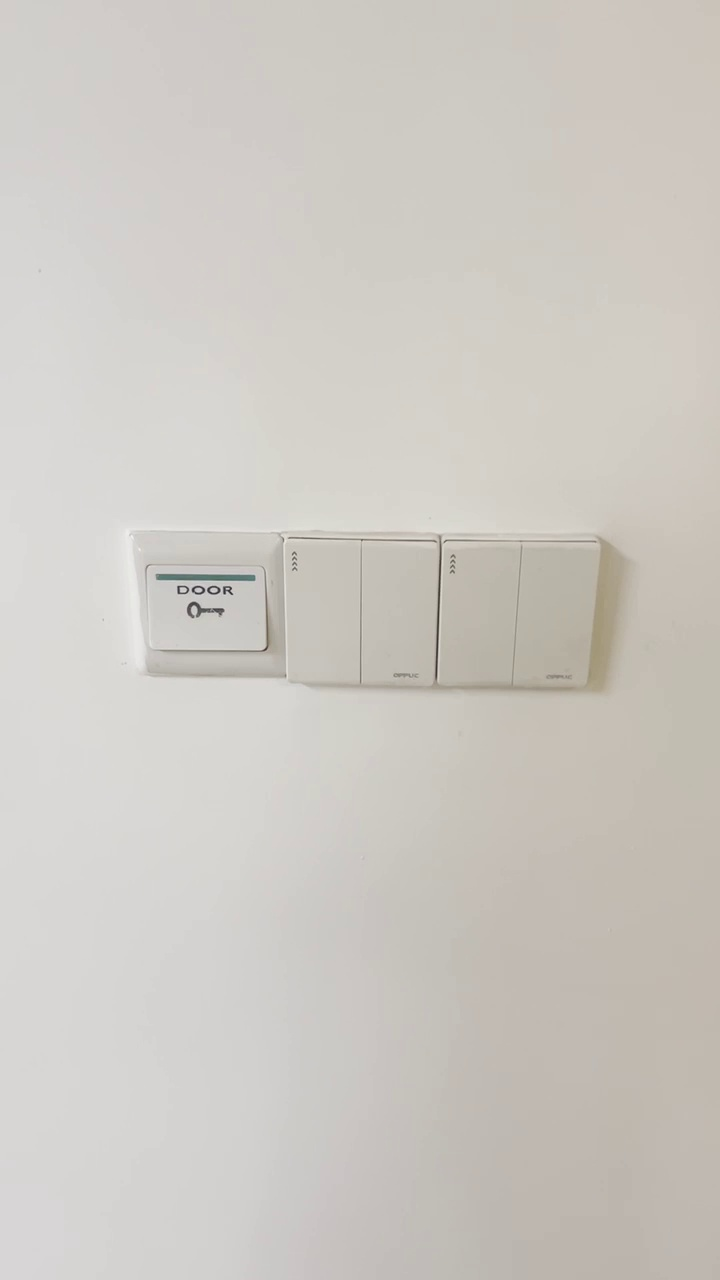button: (438, 527, 609, 695), (281, 524, 442, 694)
